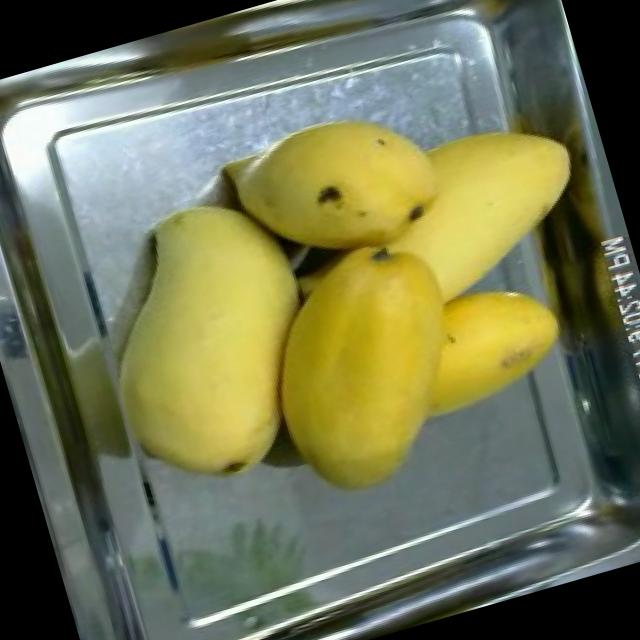fruit: (226, 184, 598, 522), (205, 52, 611, 340), (60, 172, 358, 513)
